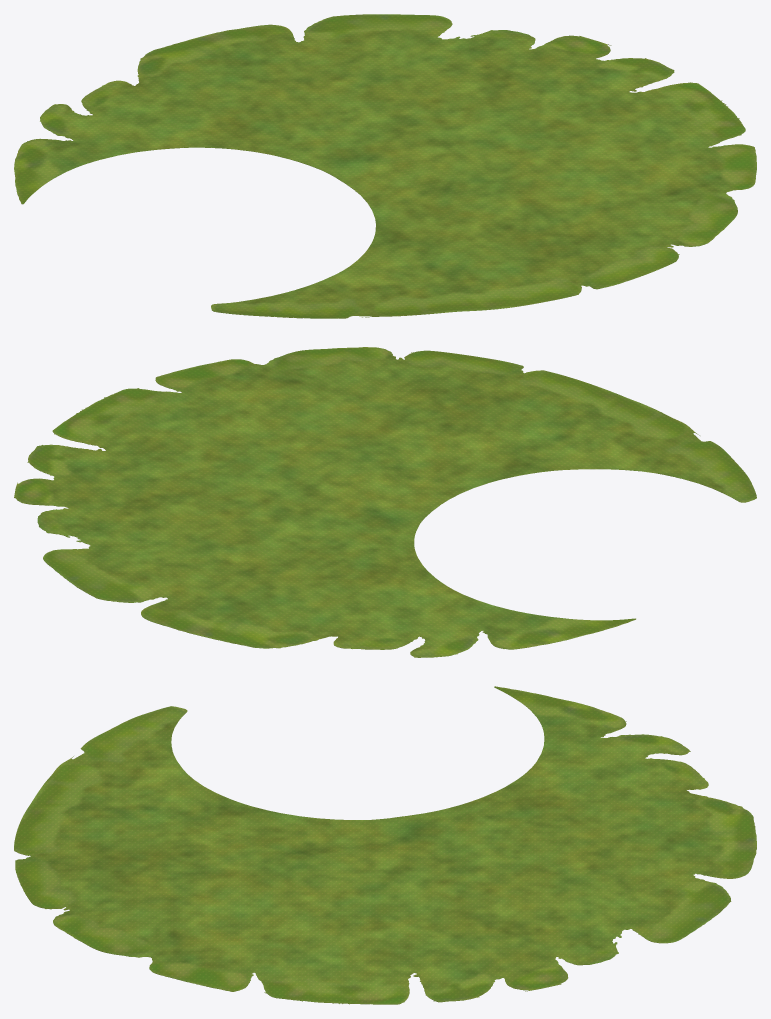
The model's file is lawn_01.gltf.
3 renders of one model, top to bottom at view 1: azimuth 30°, elevation 25°; view 2: azimuth 150°, elevation 25°; view 3: azimuth 270°, elevation 25°, orthographic. The views are drawn at different scales.
Visible parts, largest first — view 1: lawn_01.surface, lawn_01.sides; view 2: lawn_01.surface, lawn_01.sides; view 3: lawn_01.surface, lawn_01.sides.
Part boxes in pixels (left/top/right/bottom): lawn_01.surface: left=14, top=14, right=756, bottom=318; lawn_01.sides: left=27, top=27, right=751, bottom=318; lawn_01.surface: left=14, top=347, right=756, bottom=657; lawn_01.sides: left=14, top=380, right=754, bottom=657; lawn_01.surface: left=14, top=686, right=756, bottom=1004; lawn_01.sides: left=15, top=692, right=756, bottom=1004.
Size of the model in its own units: 200 by 2 by 197.
Materials: 1 (1 with a texture image).
